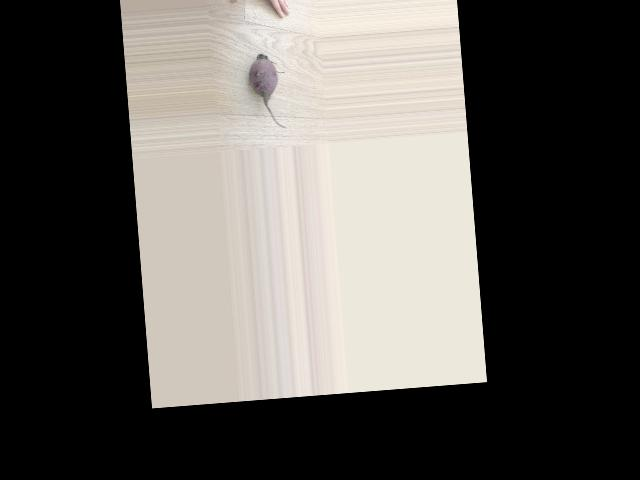beet: (247, 52, 288, 131)
